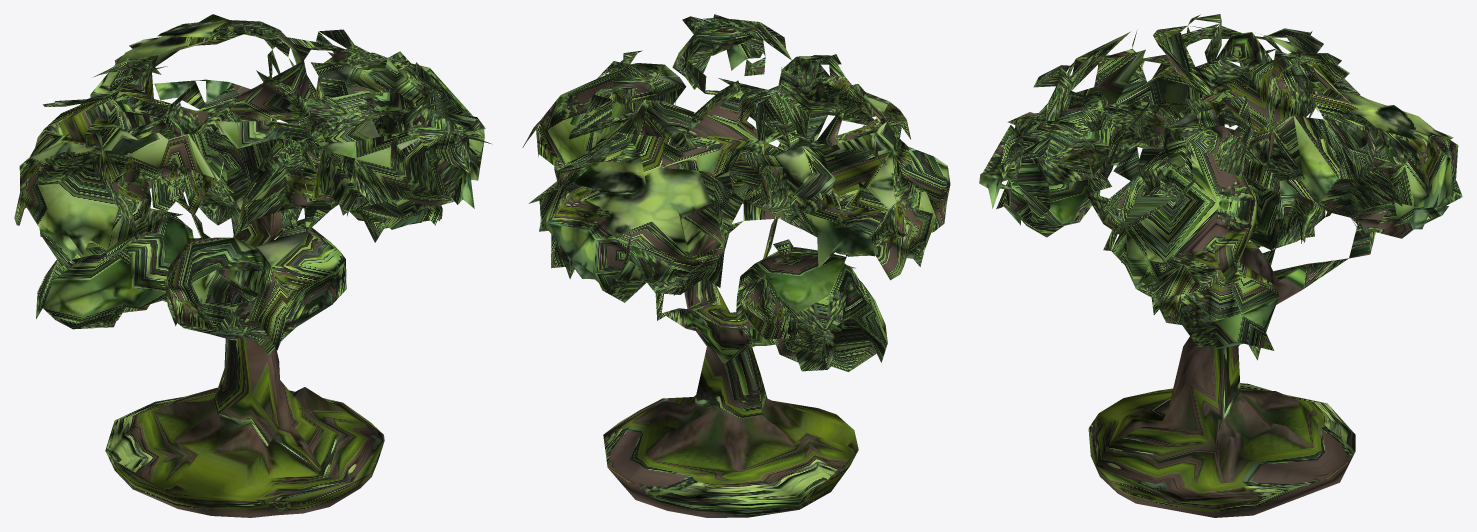
File: arbol-lod.glb
3 renders of one model, left to right at view 1: azimuth 30°, elevation 25°; view 2: azimuth 150°, elevation 25°; view 3: azimuth 270°, elevation 25°, orthographic. The views are drawn at different scales.
Visible parts, largest first — view 1: Meshy_AI_tree_0825232132_texture; view 2: Meshy_AI_tree_0825232132_texture; view 3: Meshy_AI_tree_0825232132_texture.
Part boxes in pixels (bbox=[...]): Meshy_AI_tree_0825232132_texture: bbox=[14, 14, 492, 517]; Meshy_AI_tree_0825232132_texture: bbox=[522, 14, 950, 517]; Meshy_AI_tree_0825232132_texture: bbox=[979, 14, 1462, 517].
Size of the model in its own units: 1.98 by 1.77 by 1.96.
1 material, 1 textured.
